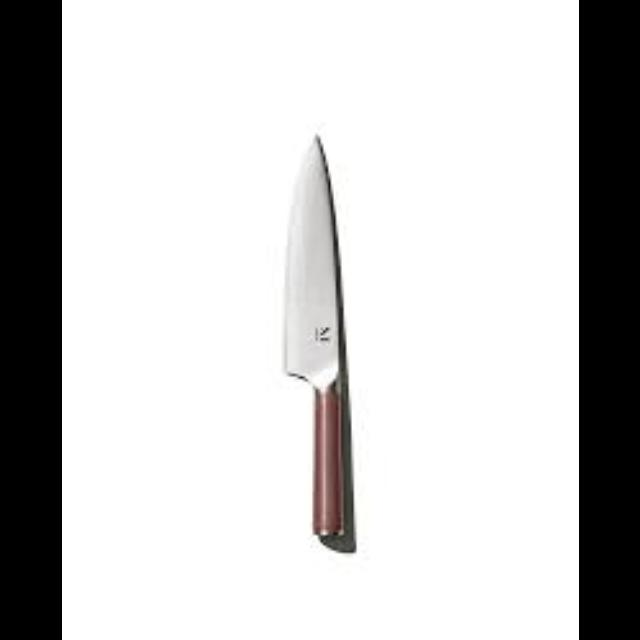Knife: (279, 131, 355, 553)
